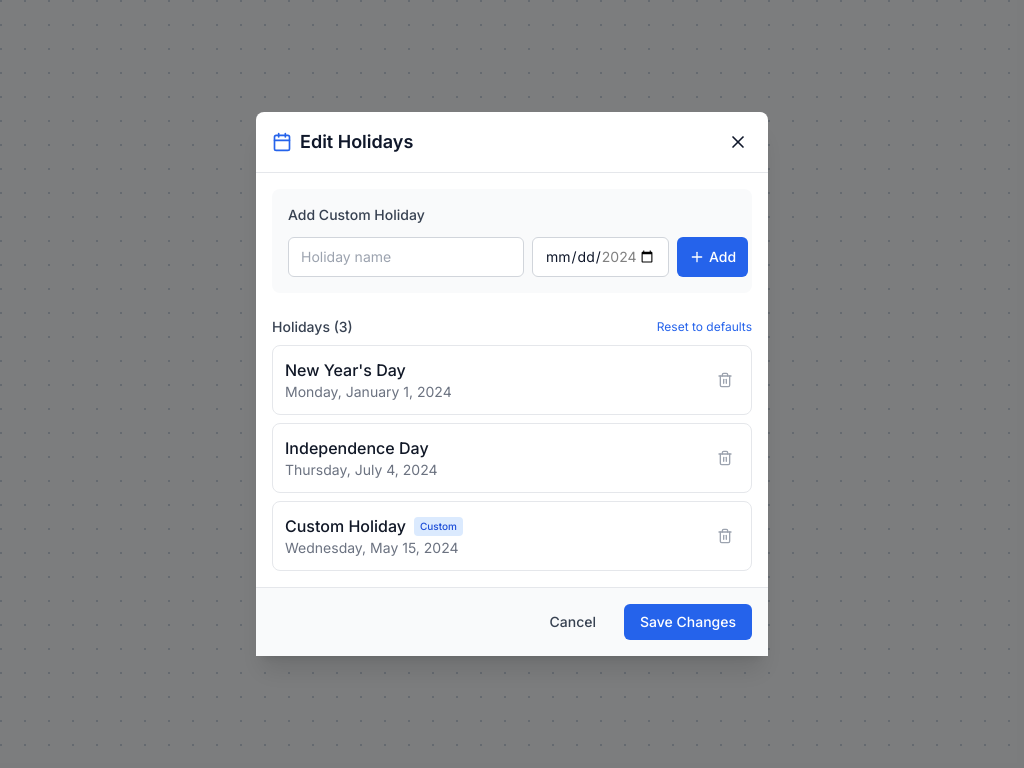
Test case: HolidayEditModal › Removing Holidays › should update holiday count after removal
Expected: the heading "Holidays (3)" is shown, [272,317,353,337]
Remove the first holiday (New Year's Day)
Click the button named "remove new year" at (725, 380), box [711,366,739,394]
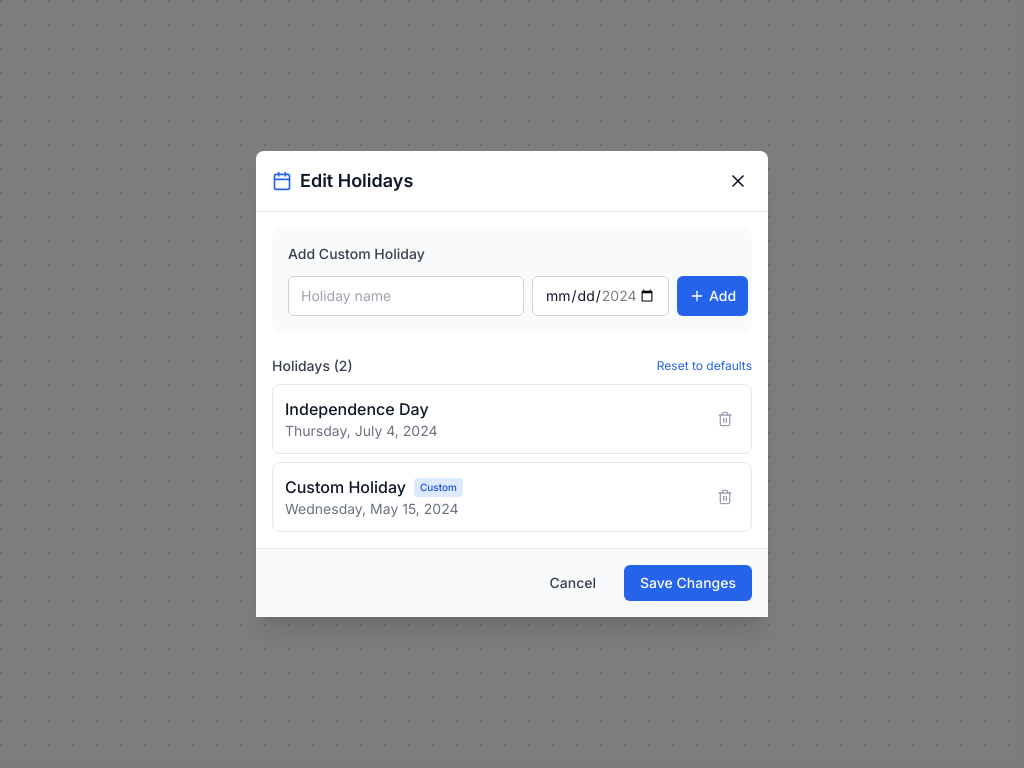
Result: the heading "Holidays (2)" is shown at [272,356,353,376]
